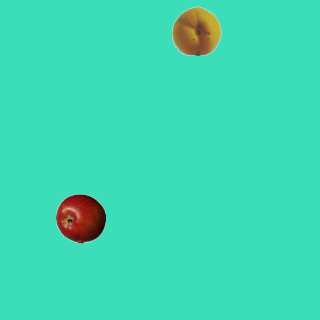Apple Braeburn: (55, 193, 105, 243)
Peach 2: (171, 5, 221, 55)
